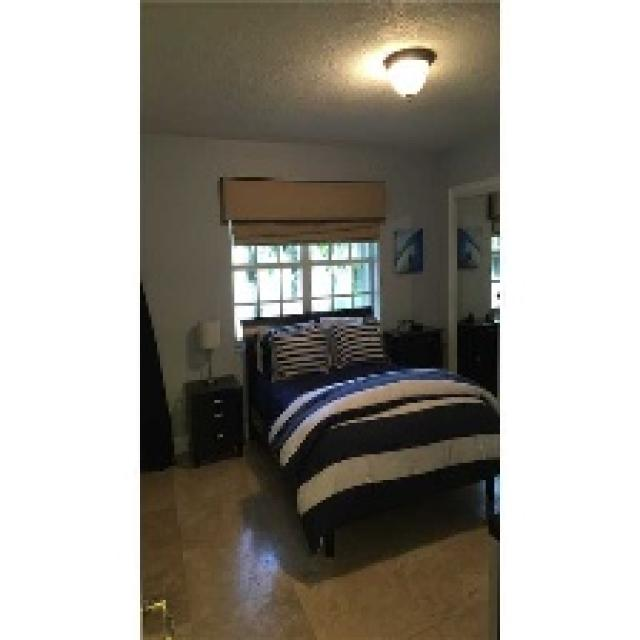Bed: (240, 306, 497, 557)
